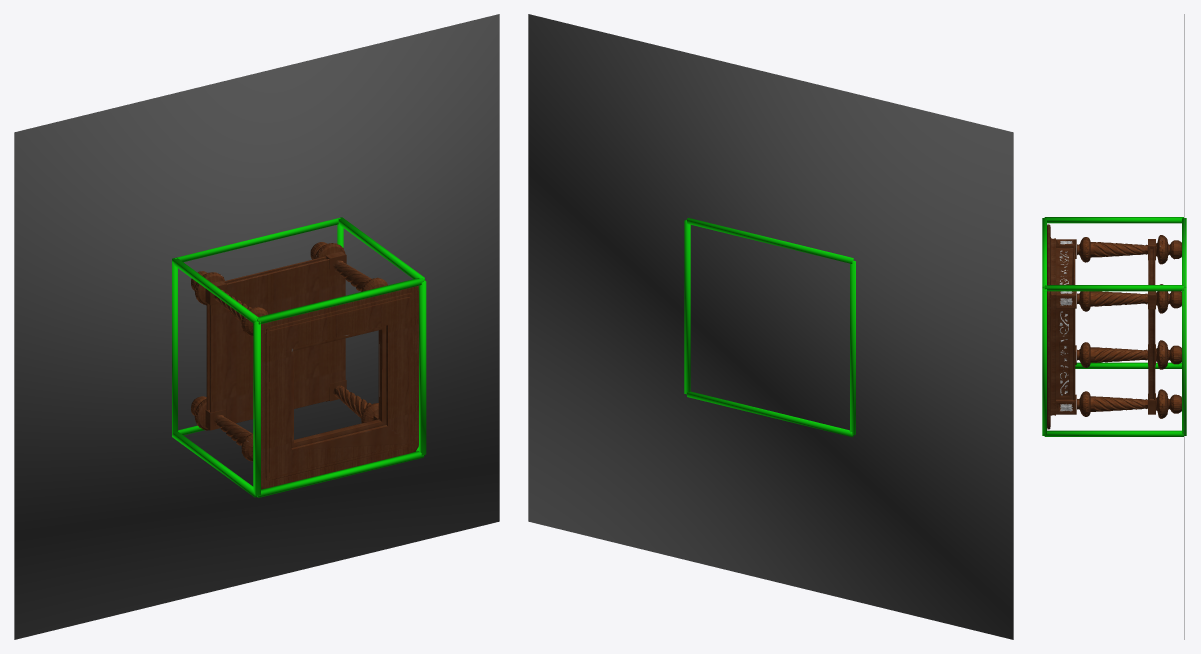
The picture shows the model from 3 angles, left to right: view 1: azimuth 30°, elevation 25°; view 2: azimuth 150°, elevation 25°; view 3: azimuth 270°, elevation 25°; orthographic projection. The views are drawn at different scales.
Bounding box in the file's own units: 2 × 2 × 0.6118.
